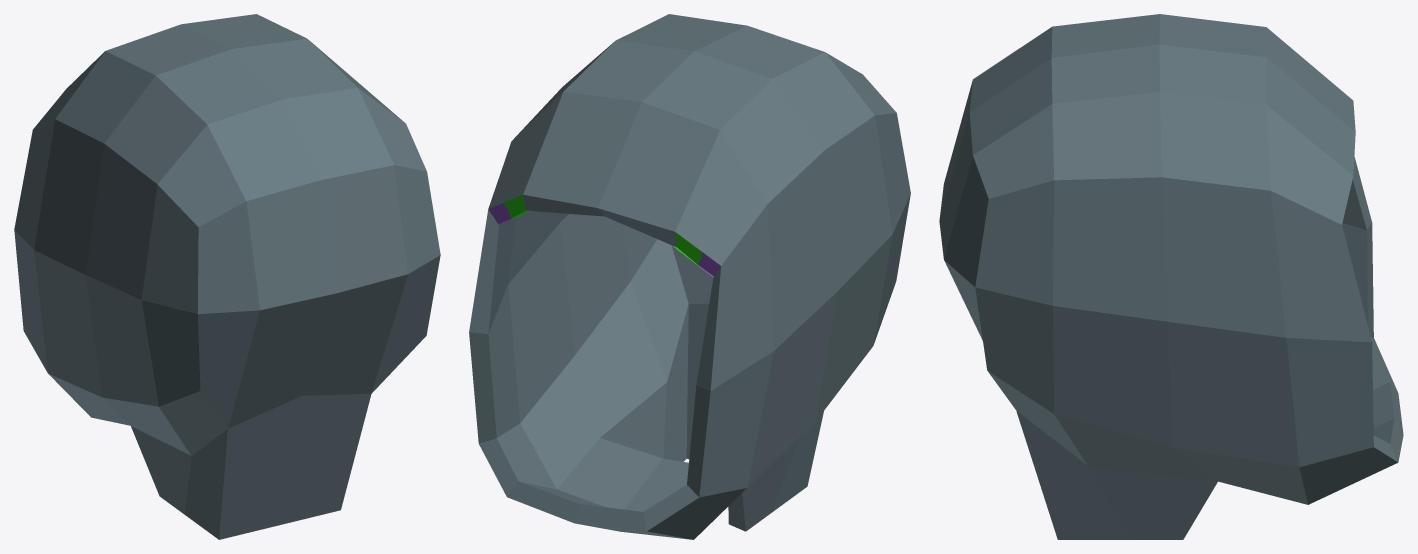
File: lowpoly_FPS_Human_Helmet.fbx
The picture shows the model from 3 angles, left to right: view 1: azimuth 30°, elevation 25°; view 2: azimuth 150°, elevation 25°; view 3: azimuth 270°, elevation 25°; orthographic projection. The views are drawn at different scales.
Parts seen in each view (by area): view 1: Helmet; view 2: Helmet; view 3: Helmet.
Boxes of the visible parts, bbox=[...] form: Helmet: bbox=[14, 14, 440, 539]; Helmet: bbox=[469, 14, 910, 539]; Helmet: bbox=[939, 14, 1403, 539].
Bounding box in the file's own units: 0.3118 × 0.4172 × 0.4604.
Materials: 1 (1 with a texture image).
